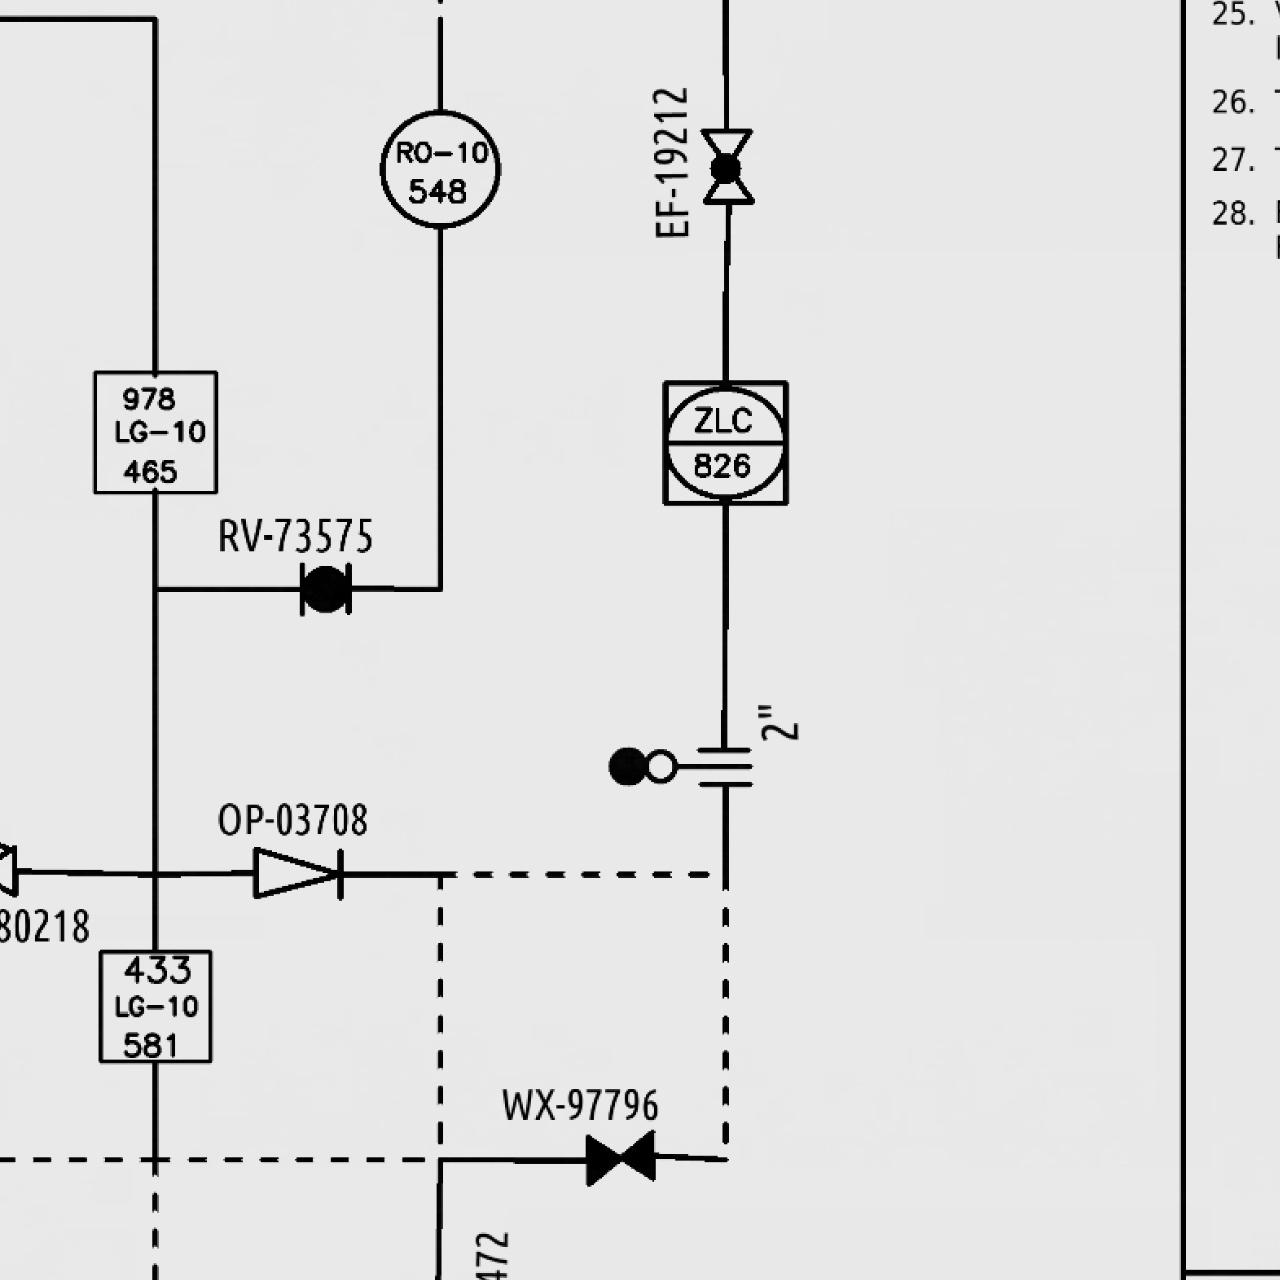Control-Panel: (375, 104, 504, 232)
